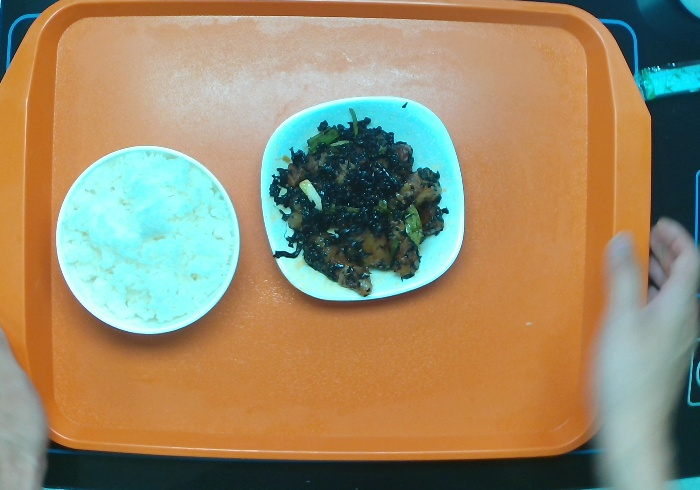ZNLD-Fan_Wan: (54, 144, 245, 337)
ZNLD-Si_Fang_Wan: (257, 93, 467, 305)
